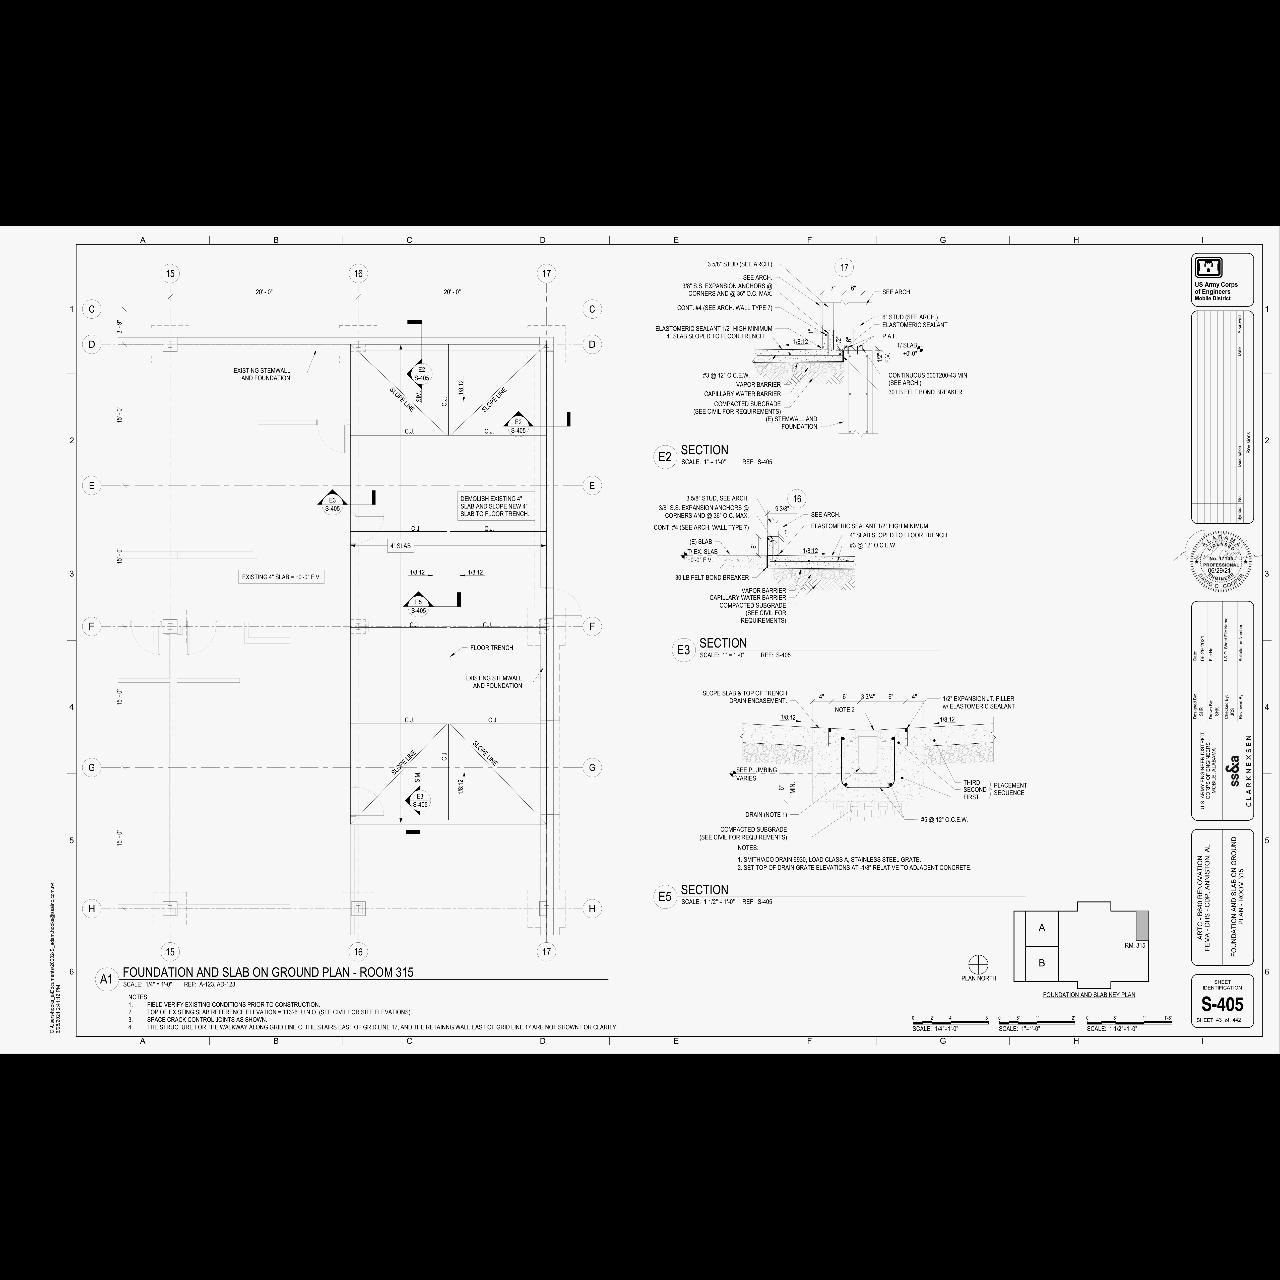elevation: (402, 782, 435, 818), (401, 588, 437, 620), (316, 485, 350, 518), (404, 358, 437, 390), (501, 410, 536, 440)
title: (95, 961, 613, 994), (649, 877, 1030, 911), (651, 440, 958, 472), (669, 633, 942, 665)
